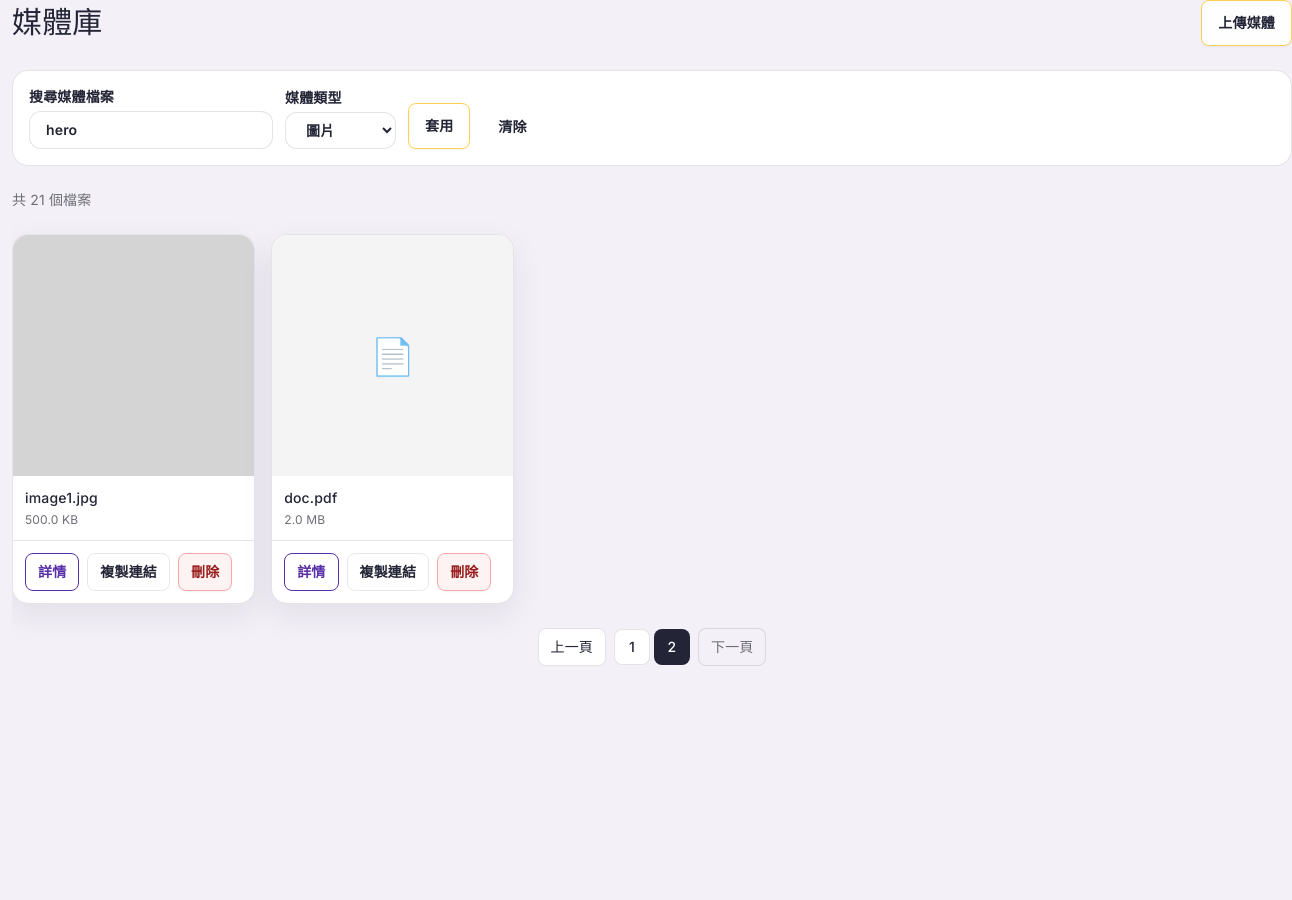
Test: MediaLibraryClient › 存在 exact 引用時仍硬阻擋刪除（無覆寫路徑）(C3)
This screenshot has width=1292, height=900.
Click the button "刪除" below "500.0 KB". click: [205, 572]
box: x1=178 y1=553 x2=232 y2=591
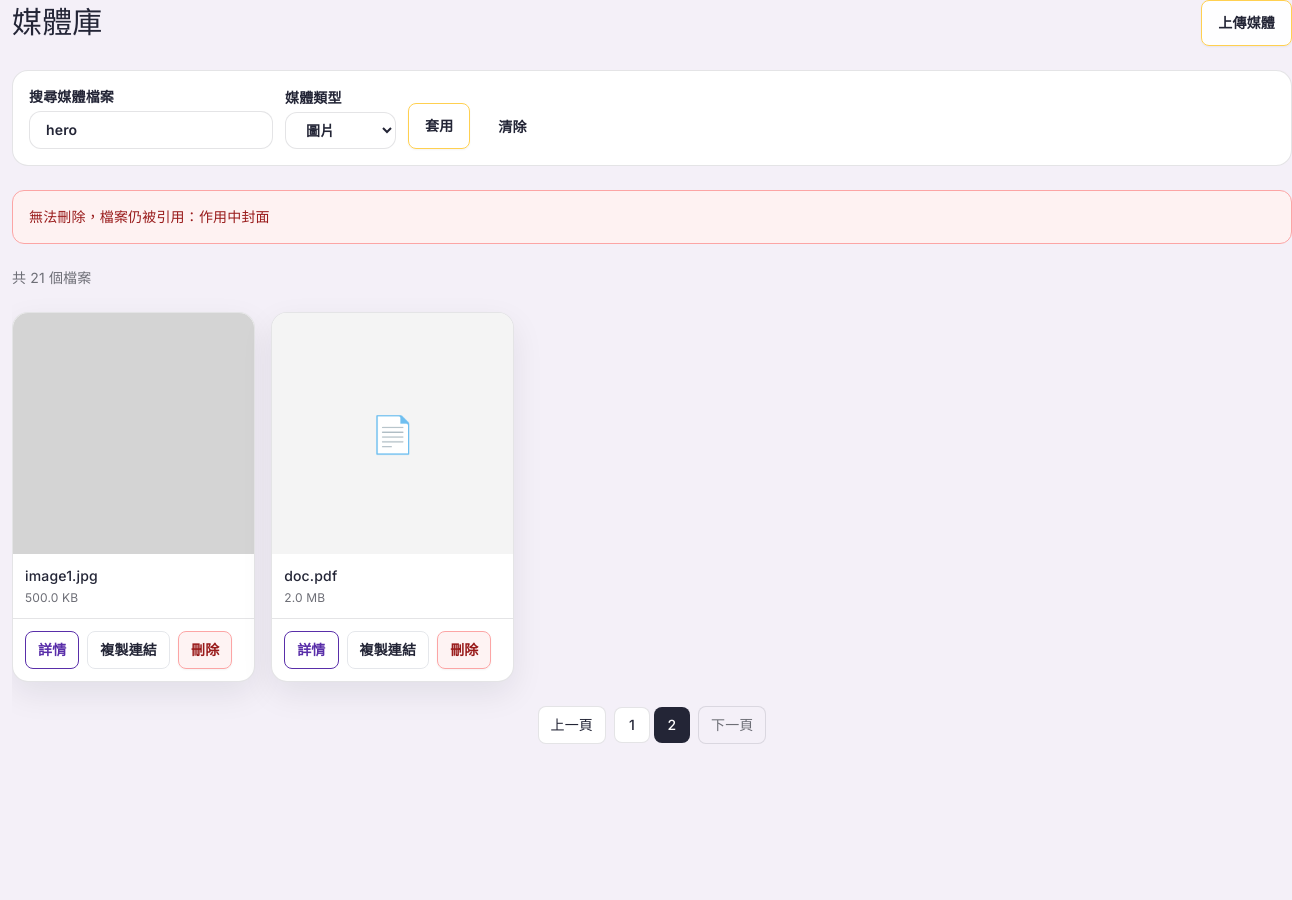
Check: the message shows "無法刪除", box x1=29 y1=208 x2=270 y2=225
